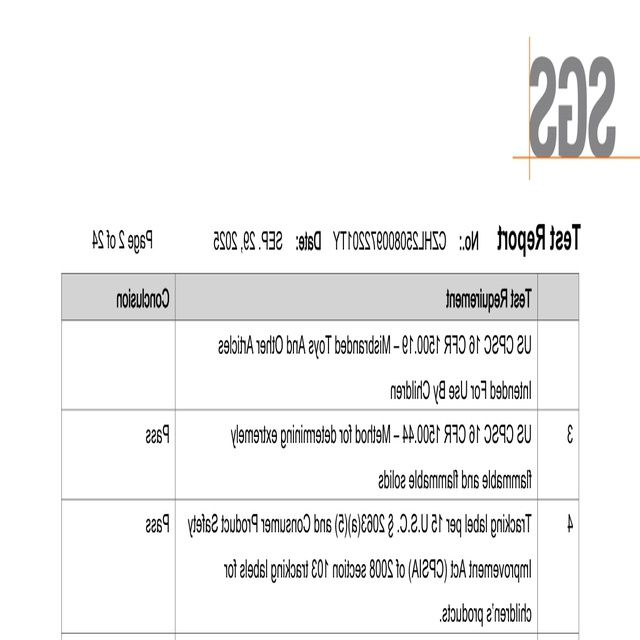sgs: (529, 57, 615, 157)
